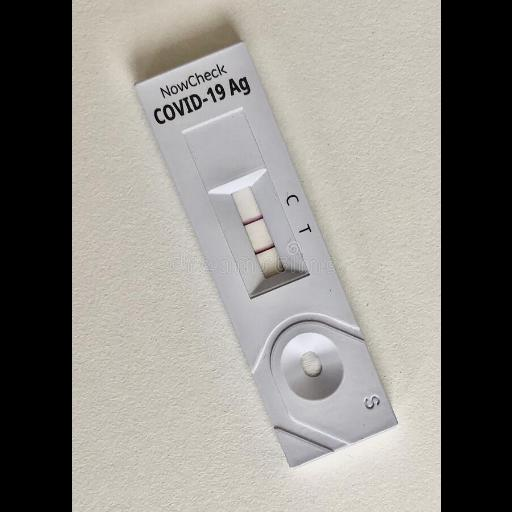Pos: (129, 43, 397, 474)
